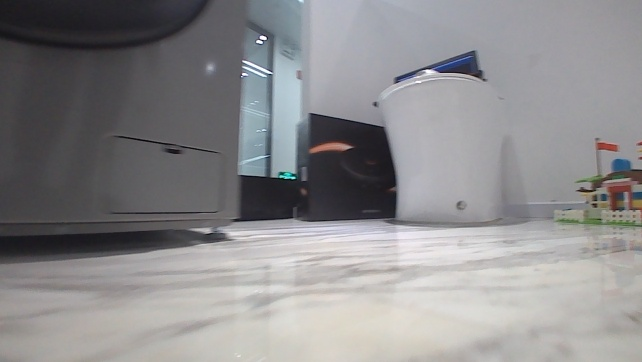plastic_toy: (550, 140, 641, 227)
toilet: (375, 70, 510, 225)
washing_machine1: (0, 0, 248, 245)
